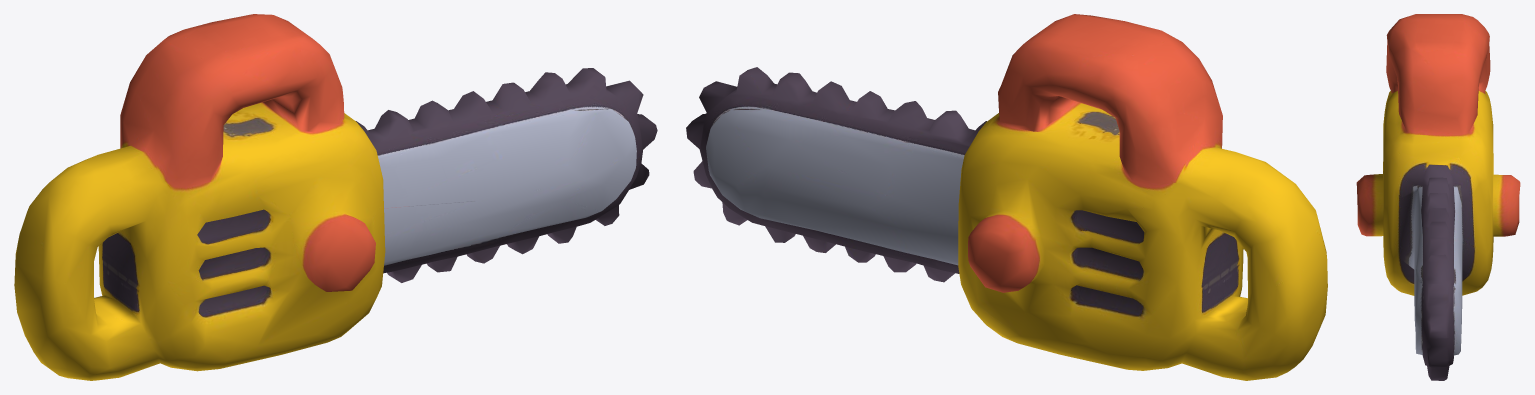
The model's file is saw.glb.
3 views of the same model, side by side, from view 1: azimuth 30°, elevation 25°; view 2: azimuth 150°, elevation 25°; view 3: azimuth 270°, elevation 25° (orthographic). The views are drawn at different scales.
Parts seen in each view (by area): view 1: tripo_node_fae493a0-a489-4c1a-a2bf-55ecccbcec14; view 2: tripo_node_fae493a0-a489-4c1a-a2bf-55ecccbcec14; view 3: tripo_node_fae493a0-a489-4c1a-a2bf-55ecccbcec14.
Boxes of the visible parts, x1=… form: tripo_node_fae493a0-a489-4c1a-a2bf-55ecccbcec14: x1=14, y1=14, x2=657, y2=380; tripo_node_fae493a0-a489-4c1a-a2bf-55ecccbcec14: x1=686, y1=14, x2=1327, y2=380; tripo_node_fae493a0-a489-4c1a-a2bf-55ecccbcec14: x1=1356, y1=14, x2=1520, y2=380.
Size of the model in its own units: 0.9793 by 0.4632 by 0.2894.
1 material, 1 textured.
